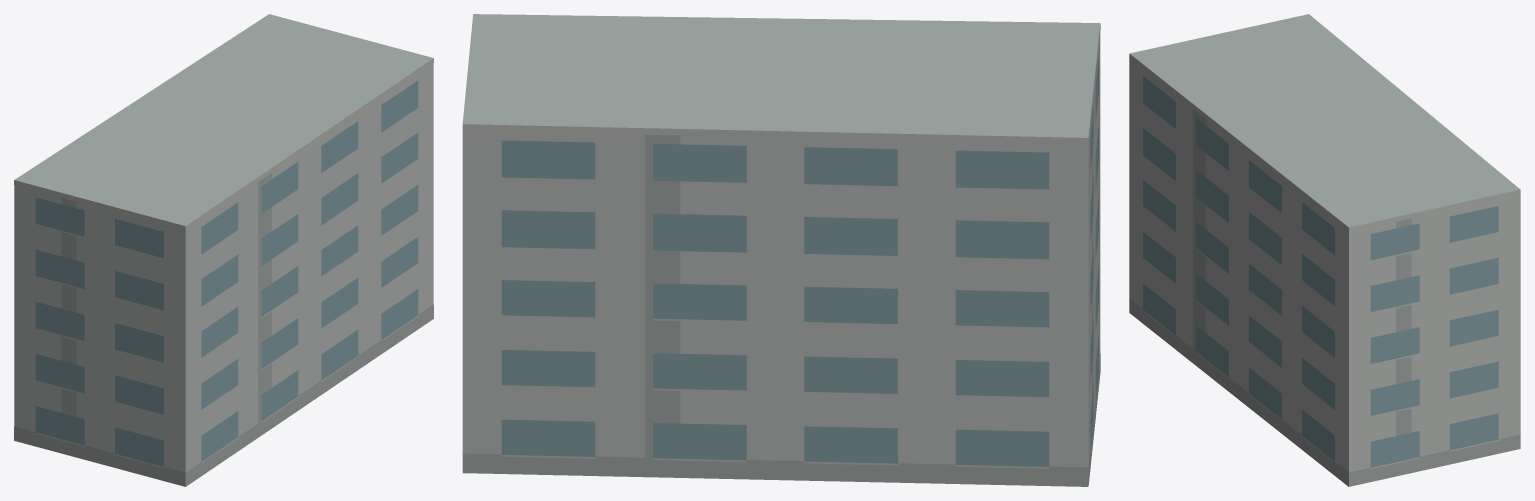
The model's file is survey-upis-32736010.glb.
The picture shows the model from 3 angles, left to right: view 1: azimuth 30°, elevation 25°; view 2: azimuth 150°, elevation 25°; view 3: azimuth 270°, elevation 25°; orthographic projection. The views are drawn at different scales.
Parts seen in each view (by area): view 1: survey-upis-32736010.tmp; view 2: survey-upis-32736010.tmp; view 3: survey-upis-32736010.tmp.
Part boxes in pixels (bbox=[...]): survey-upis-32736010.tmp: bbox=[14, 14, 433, 486]; survey-upis-32736010.tmp: bbox=[462, 14, 1100, 486]; survey-upis-32736010.tmp: bbox=[1129, 14, 1520, 486].
Bounding box in the file's own units: 23.13 × 13.1 × 17.91.
